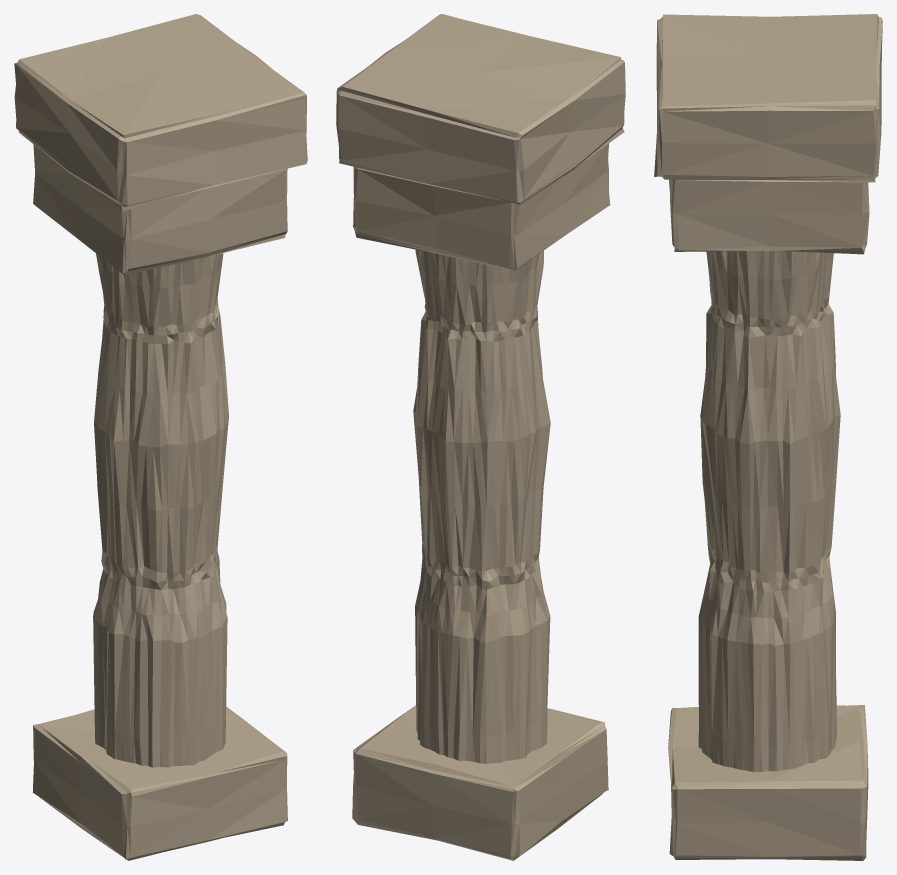
Rendered from SM_Pillar_Whole.fbx.
3 views of the same model, side by side, from view 1: azimuth 30°, elevation 25°; view 2: azimuth 150°, elevation 25°; view 3: azimuth 270°, elevation 25° (orthographic). The views are drawn at different scales.
Parts seen in each view (by area): view 1: SM_Pillar_Whole; view 2: SM_Pillar_Whole; view 3: SM_Pillar_Whole.
Part boxes in pixels (x1,y1,x2,y2): SM_Pillar_Whole: (14, 14, 307, 860); SM_Pillar_Whole: (336, 14, 625, 860); SM_Pillar_Whole: (654, 14, 882, 860).
Size of the model in its own units: 0.813 by 3.02 by 0.8186.
